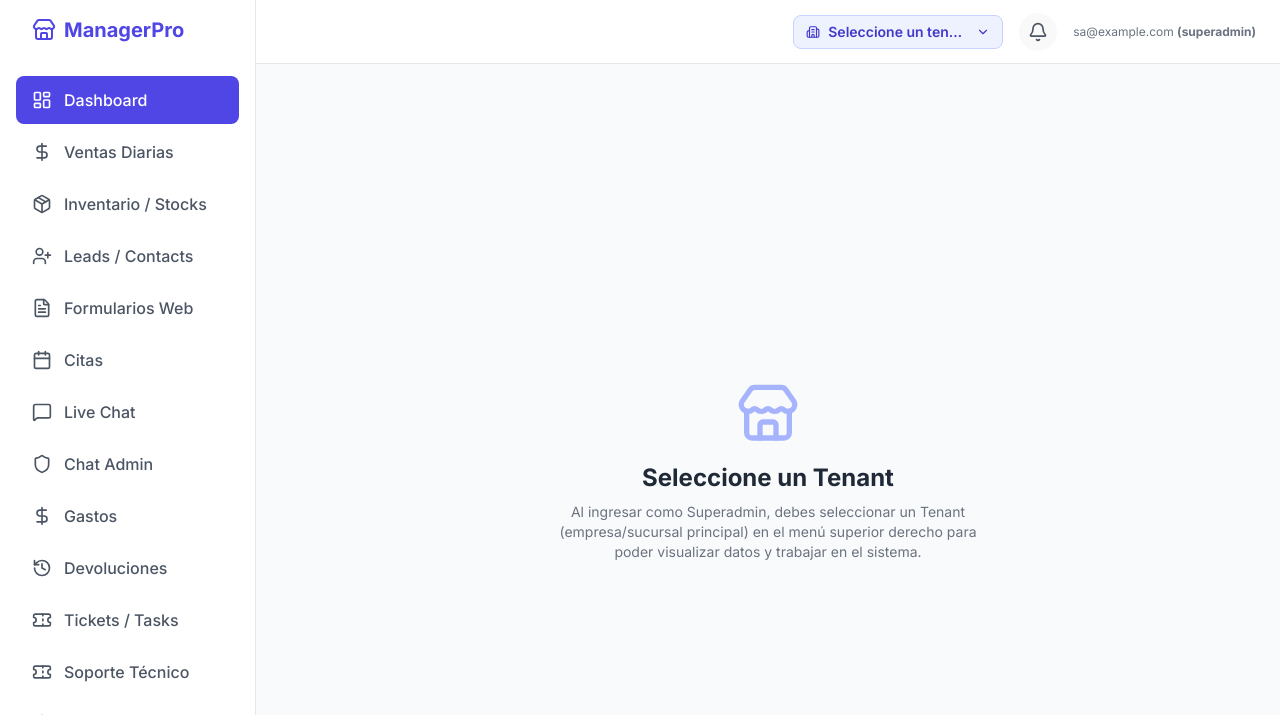
Test case: Tenant selector — SuperAdmin › a failed switch shows the error and never mutates the visible tenant
Click the button "Seleccione un tenant". click: (898, 32)
box: [793,14,1003,48]
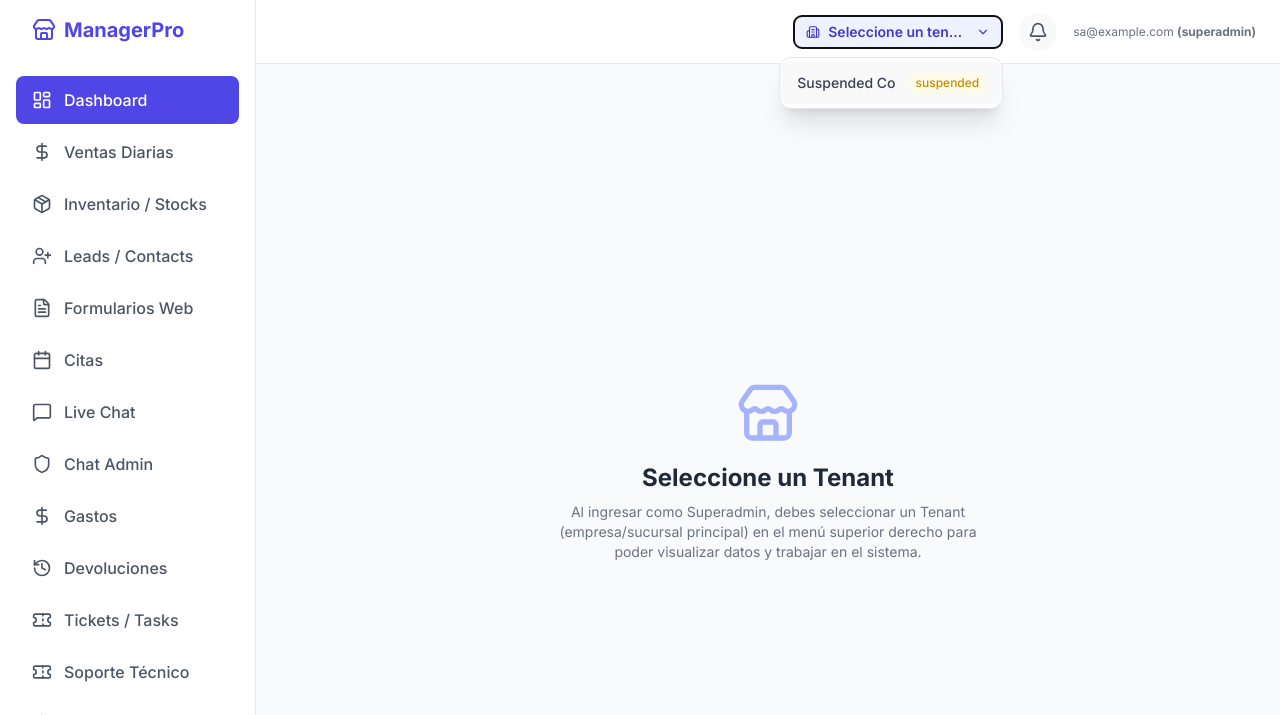
Click the text "Suspended Co". click: (846, 82)
box: [797,72,896,92]
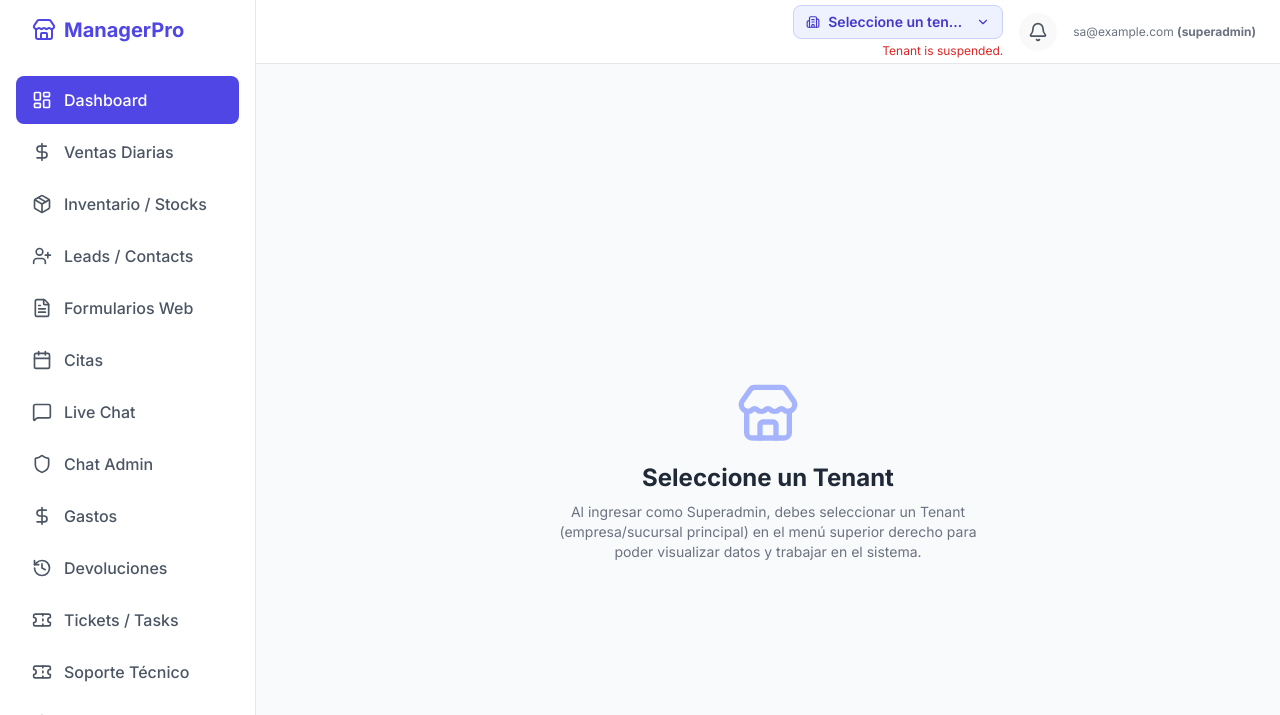
Expected: the button "Seleccione un tenant" is shown, [793,4,1003,38]
Expected: the text "Tenant is suspended." is shown, [882,42,1003,58]
